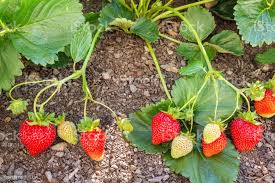Fresa: (17, 115, 57, 158), (229, 112, 264, 154), (149, 108, 182, 147), (78, 125, 109, 163)
